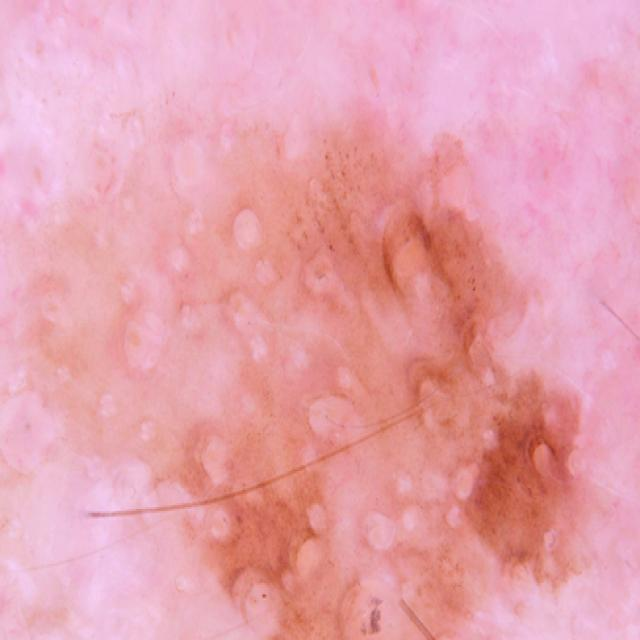Carcinoma: (119, 129, 627, 640)
